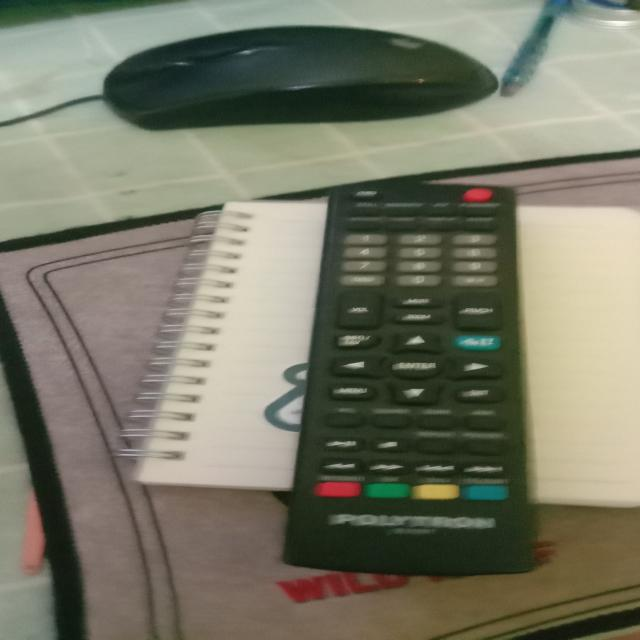remote: (275, 178, 548, 572)
